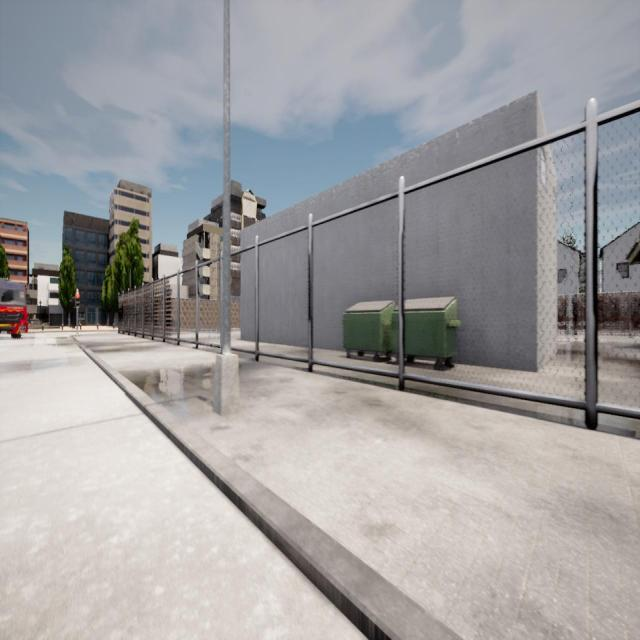Vehicle: (1, 280, 28, 338)
traffic_light: (75, 292, 81, 310)
